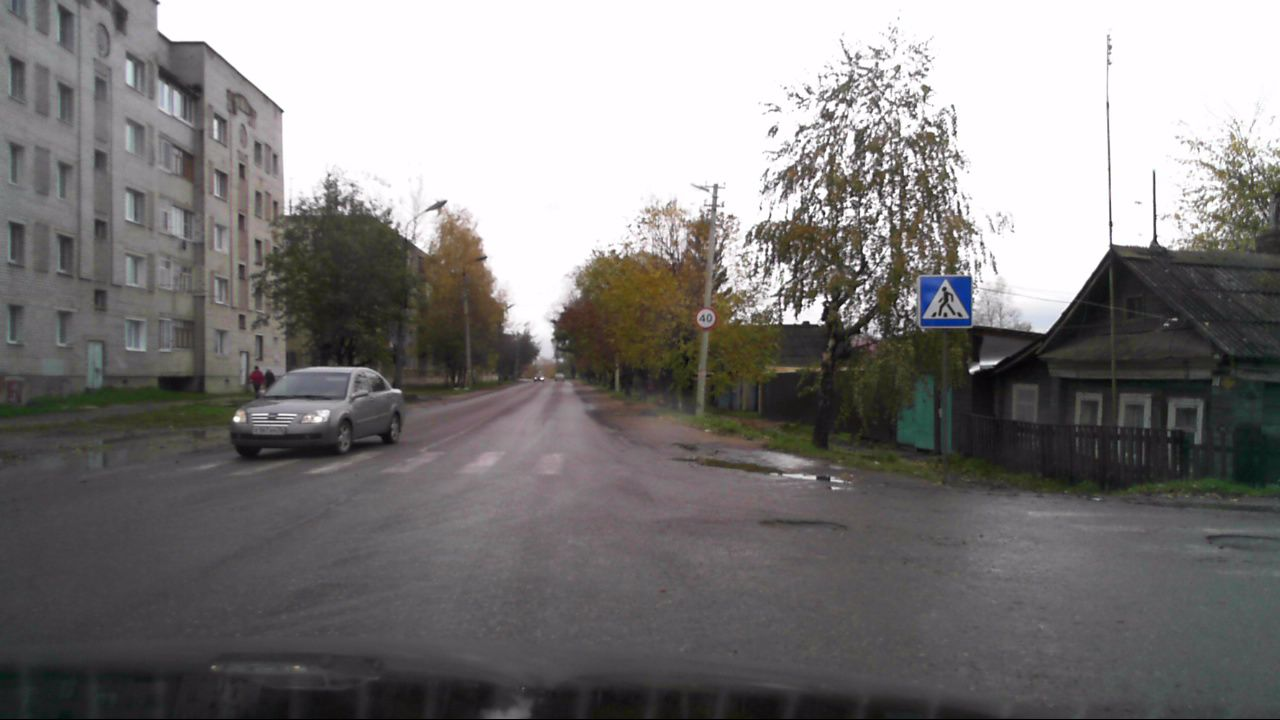speed_warning_40: (695, 307, 716, 329)
